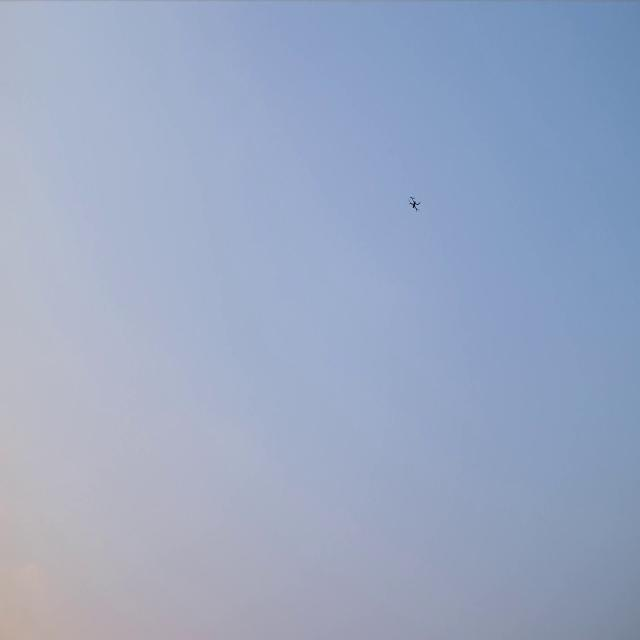UAV: (409, 197, 418, 210)
